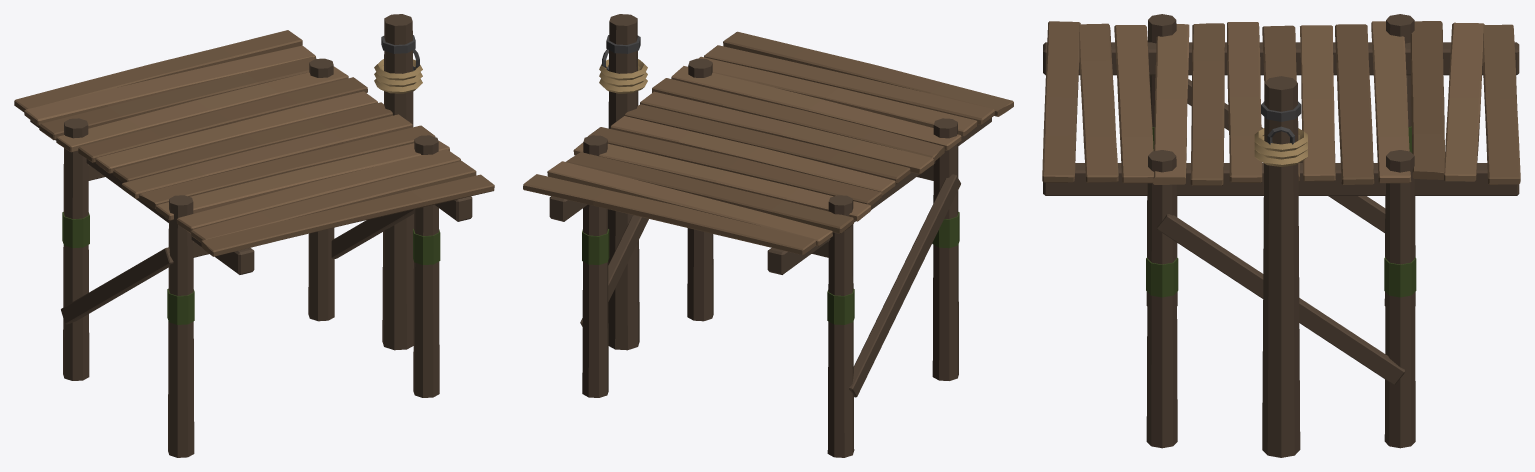
The model's file is zr_jetty_wood.glb.
3 renders of one model, left to right at view 1: azimuth 30°, elevation 25°; view 2: azimuth 150°, elevation 25°; view 3: azimuth 270°, elevation 25°, orthographic. The views are drawn at different scales.
Parts seen in each view (by area): view 1: zr_jetty_wood; view 2: zr_jetty_wood; view 3: zr_jetty_wood.
Boxes of the visible parts, bbox=[...] form: zr_jetty_wood: bbox=[14, 14, 494, 457]; zr_jetty_wood: bbox=[523, 14, 1013, 457]; zr_jetty_wood: bbox=[1042, 14, 1520, 457].
Size of what is drawn, in the model's own units: 3.41 by 3.45 by 4.02.
